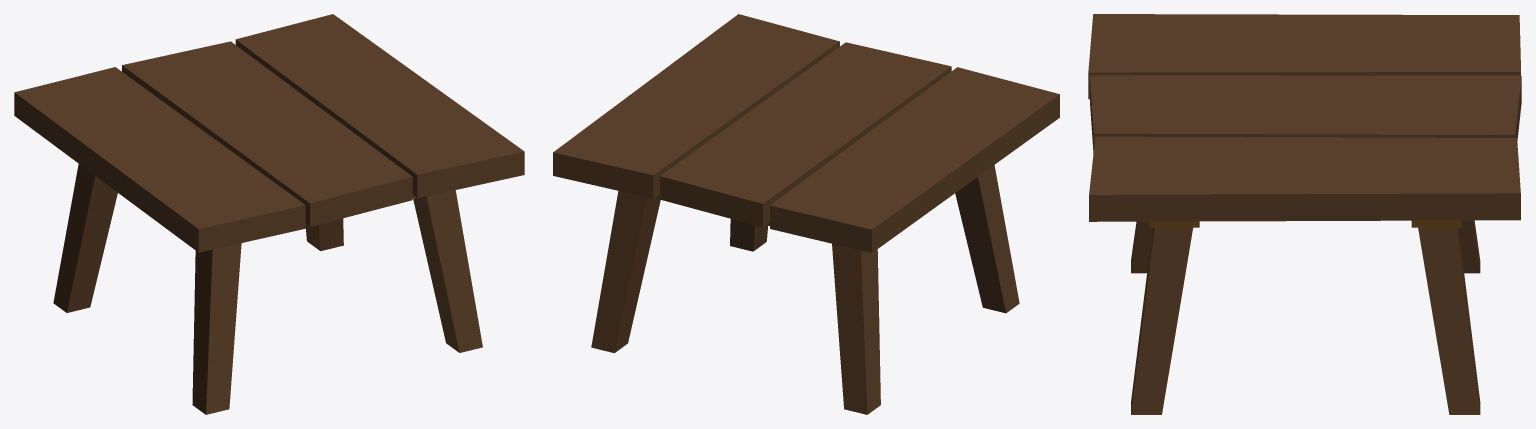
Rendered from woodenTableShortNormals.fbx.
3 views of the same model, side by side, from view 1: azimuth 30°, elevation 25°; view 2: azimuth 150°, elevation 25°; view 3: azimuth 270°, elevation 25° (orthographic). The views are drawn at different scales.
Visible parts, largest first — view 1: Table4; view 2: Table4; view 3: Table4.
Part boxes in pixels (x1,y1,x2,y2): Table4: (14, 14, 524, 414); Table4: (553, 14, 1059, 414); Table4: (1088, 14, 1521, 414).
Bounding box in the file's own units: 346 × 208 × 350.
